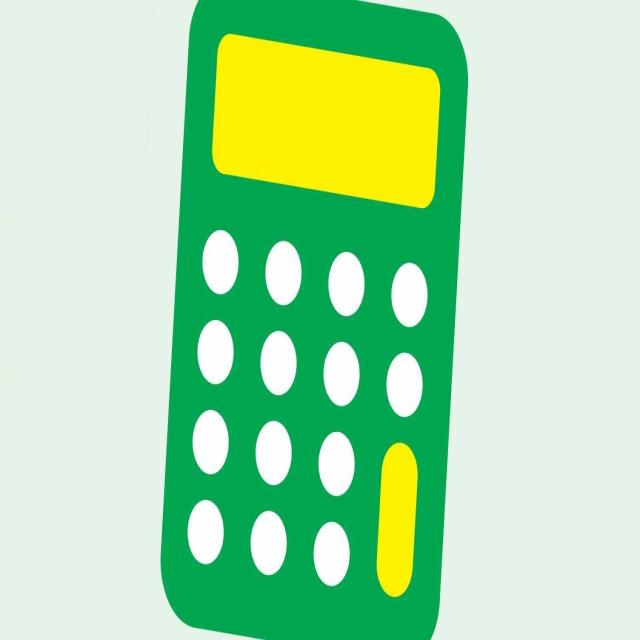Calculator: (137, 0, 496, 634)
